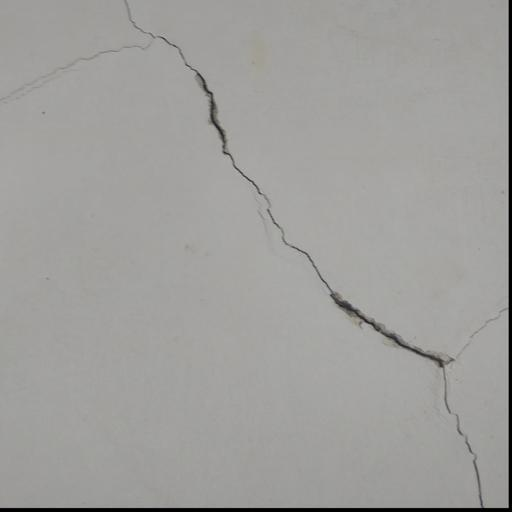major_crack: (111, 0, 507, 509)
